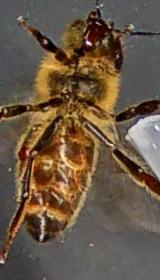varroa_mite: (12, 141, 33, 160)
